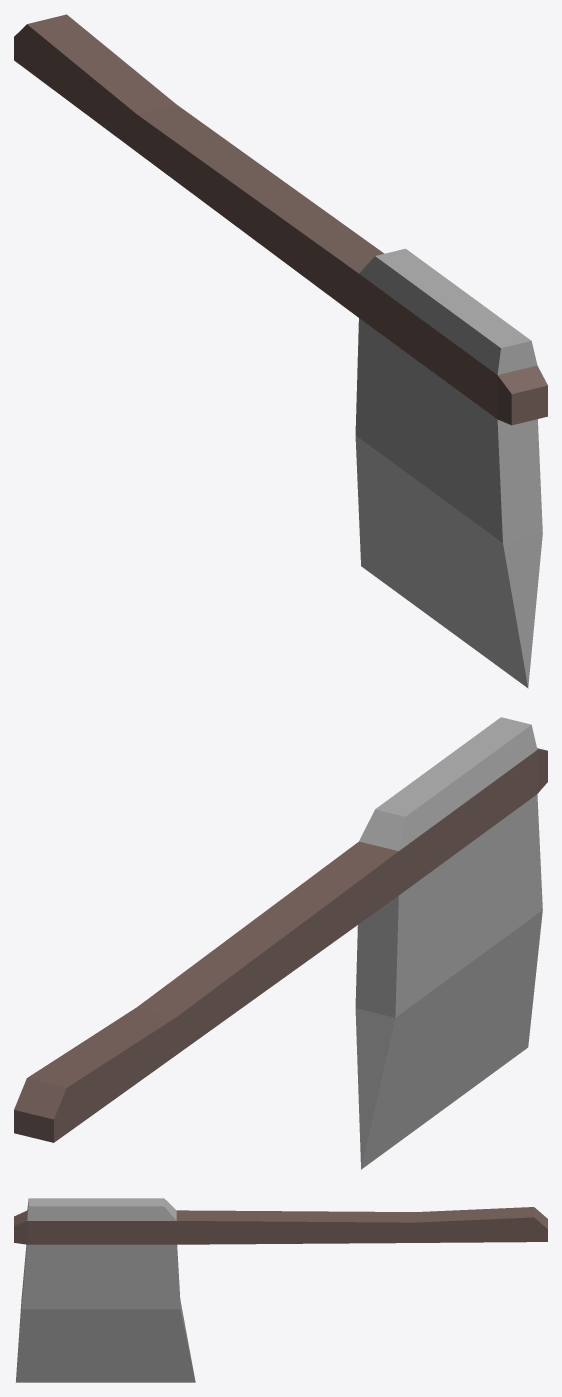
The model's file is tool2_axe.fbx.
3 renders of one model, top to bottom at view 1: azimuth 30°, elevation 25°; view 2: azimuth 150°, elevation 25°; view 3: azimuth 270°, elevation 25°, orthographic. The views are drawn at different scales.
Parts seen in each view (by area): view 1: tool_axe; view 2: tool_axe; view 3: tool_axe.
Boxes of the visible parts, x1,y1,x2,y2 form: tool_axe: (14,14,547,688); tool_axe: (14,717,547,1169); tool_axe: (14,1198,547,1382).
Size of the model in its own units: 0.1873 by 1.5 by 4.03.
